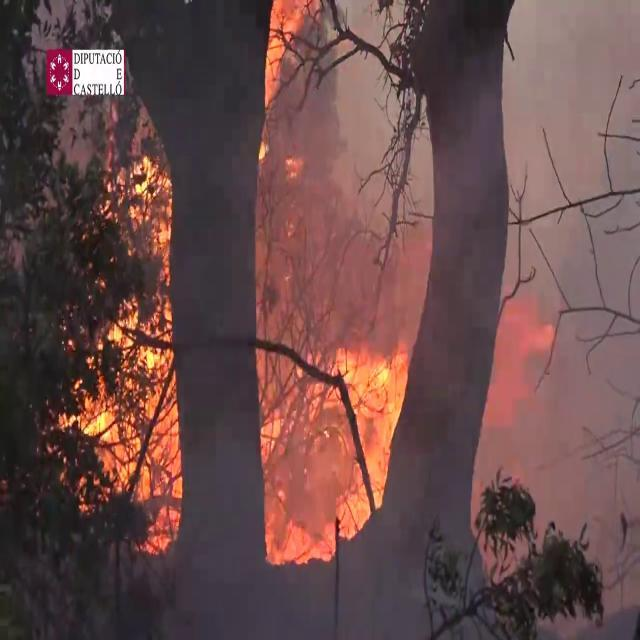Fire: (48, 120, 210, 538), (258, 338, 412, 558)
Smoke: (280, 0, 632, 476)
